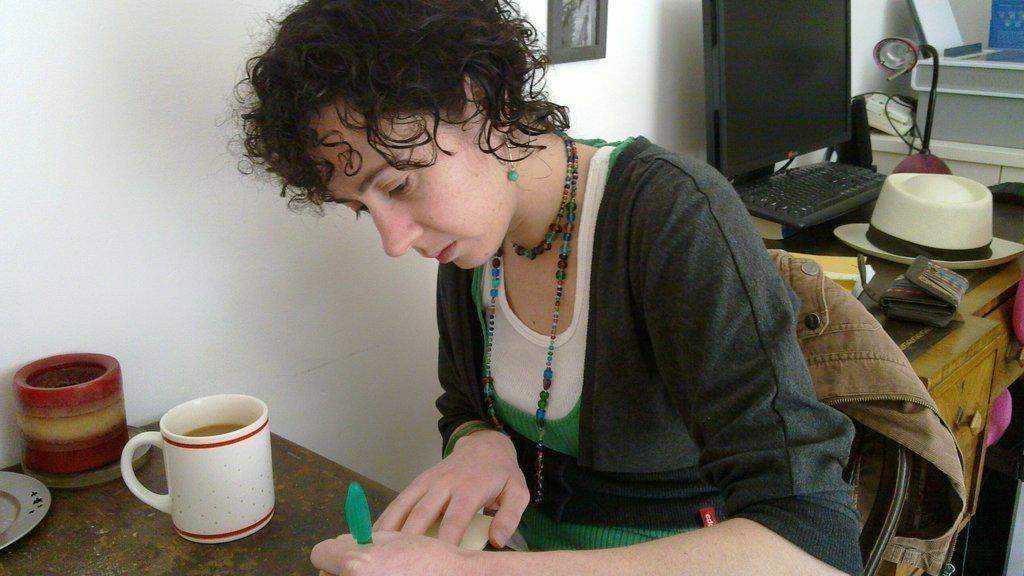cup-handle: (119, 393, 278, 547)
